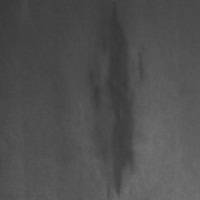inclusion: (92, 1, 146, 198)
